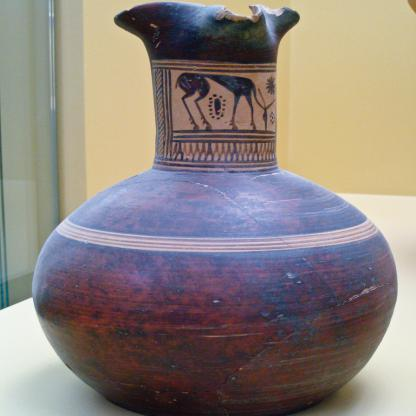vase: (32, 1, 398, 416)
